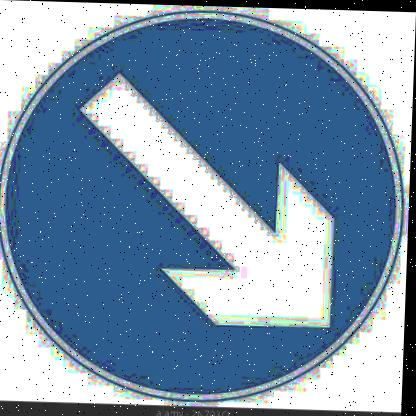Keep right: (0, 5, 411, 408)
